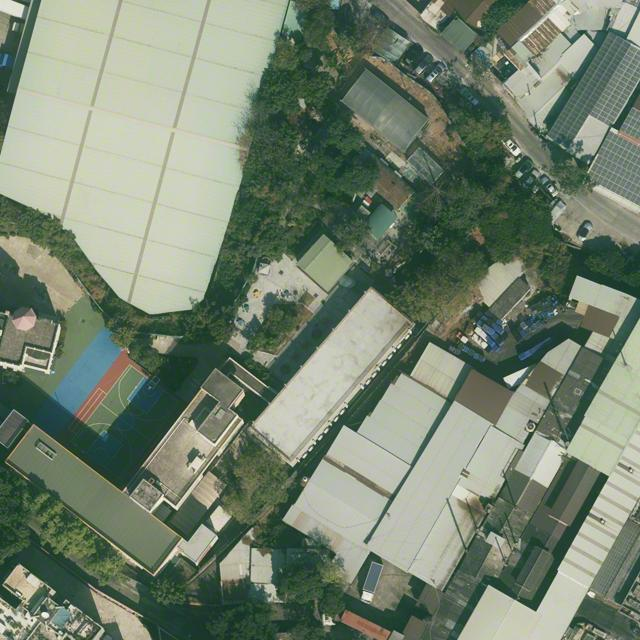panel: (546, 31, 632, 149), (589, 44, 639, 120), (586, 155, 637, 198), (598, 132, 639, 169)
